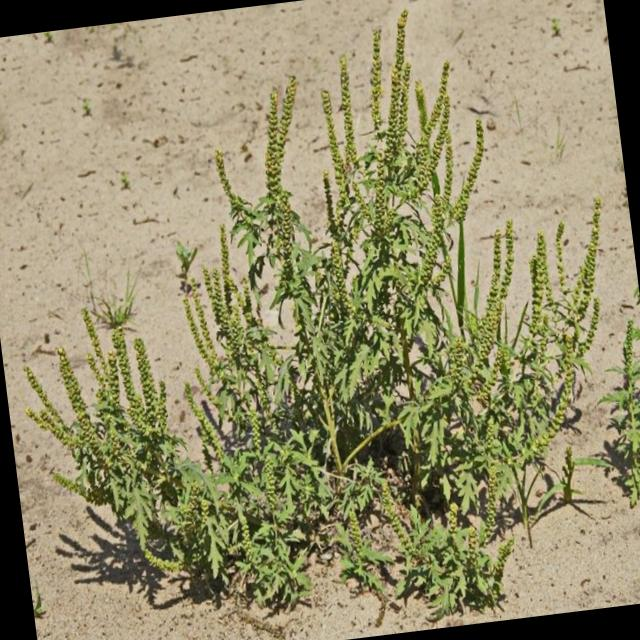ambrosia: (26, 38, 640, 624), (194, 46, 506, 354), (232, 384, 524, 640), (0, 307, 223, 568), (494, 213, 640, 464)
